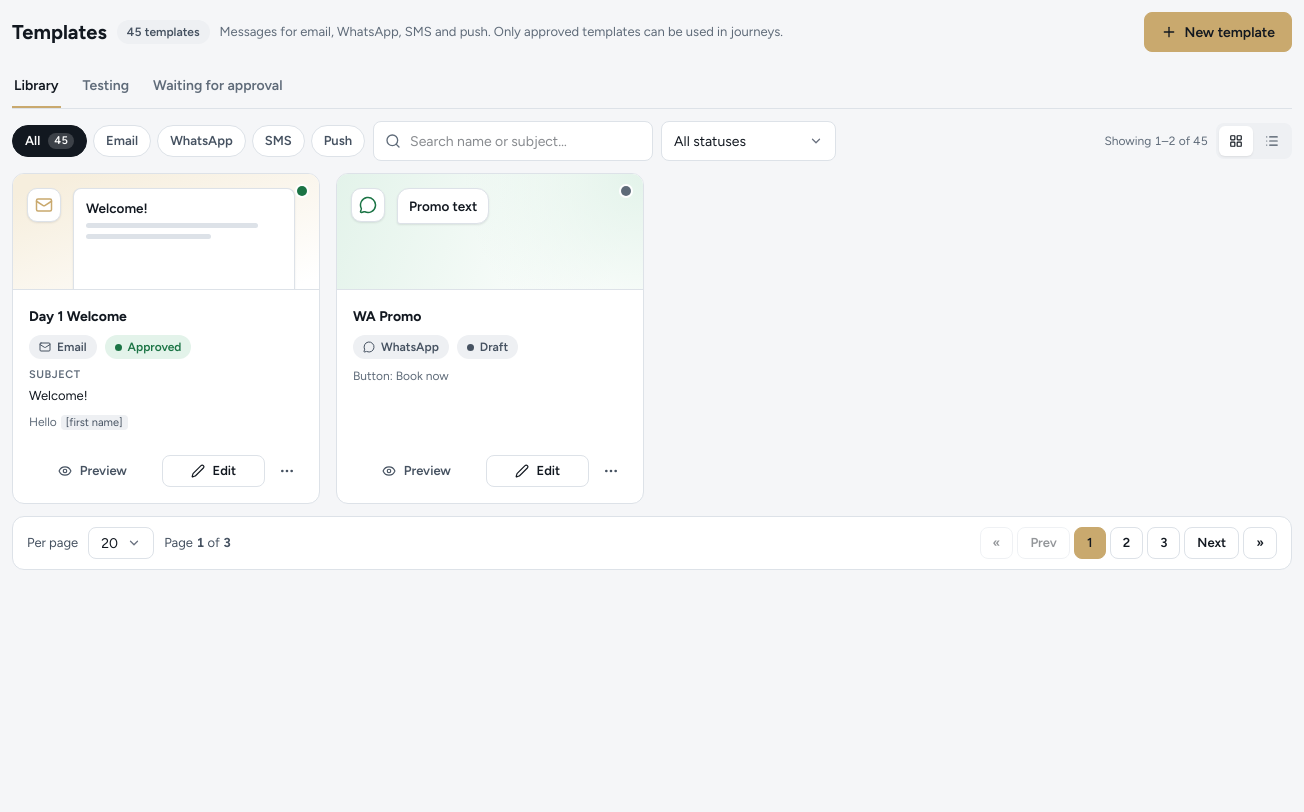
Test: Templates page — library › each card has exactly Preview, Edit and ⋯; Test send lives in the ⋯ menu
Expected: the heading "Day 1 Welcome" is shown, [29,308,127,325]
Expected: the text "Test send" is not shown
Click the button named "More actions for Day 1 Welcome" at (287, 471), box [271,455,303,487]
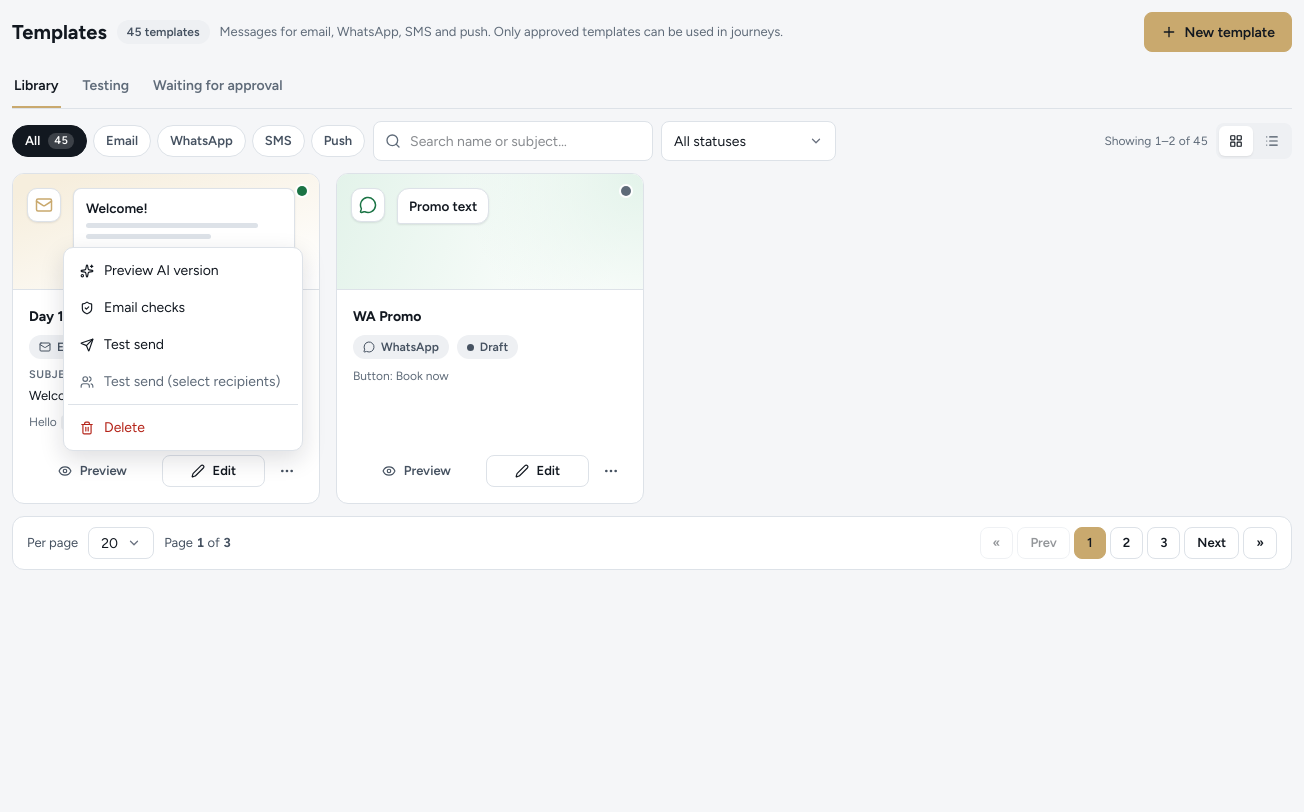
Now the menu items read "Preview AI version", "Email checks", "Test send", "Test send (select recipients)", "Delete", in this order, box [68,252,298,289]; [68,289,298,326]; [68,326,298,363]; [68,363,298,400]; [68,409,298,446]
Now the menu item "Test send (select recipients)" is disabled, box [68,363,298,400]
Press Escape
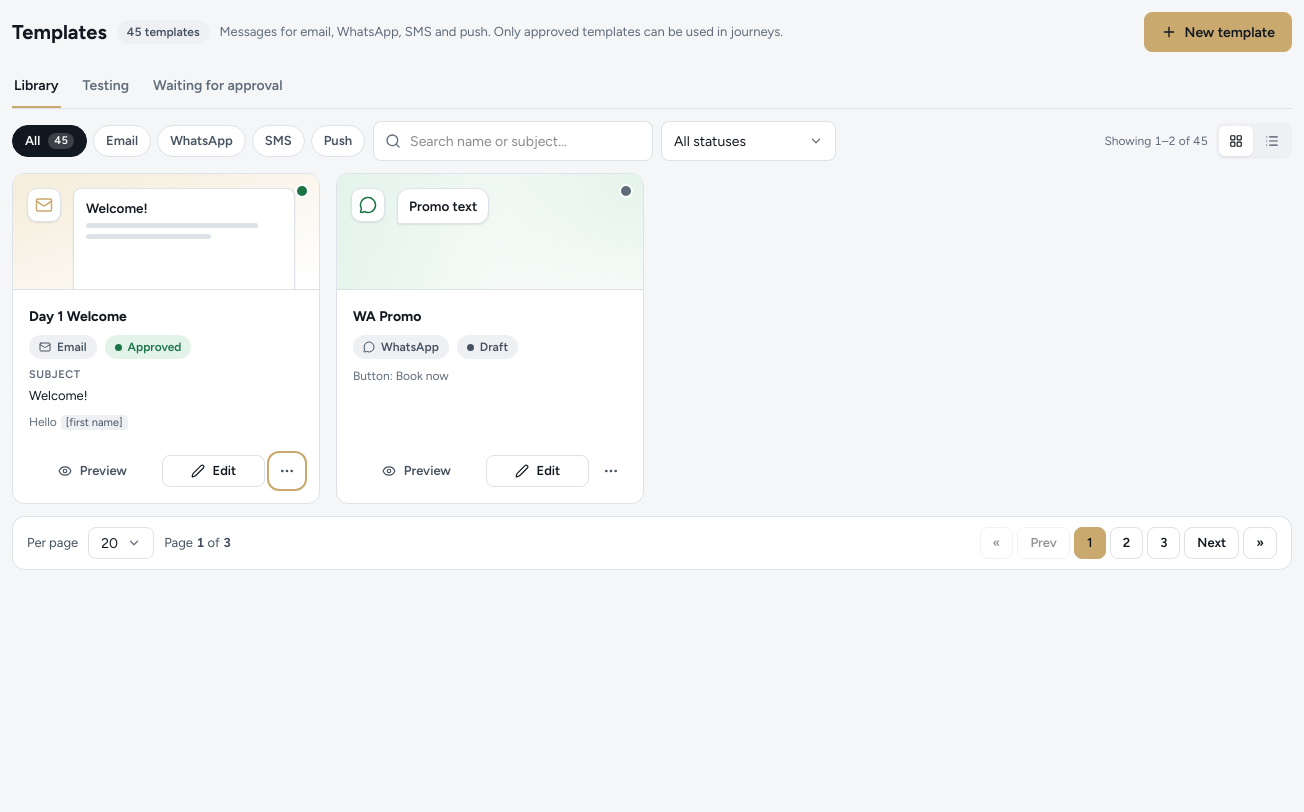
Now the menu is gone
Click the button named "More actions for WA Promo" at (611, 471), box [595,455,627,487]
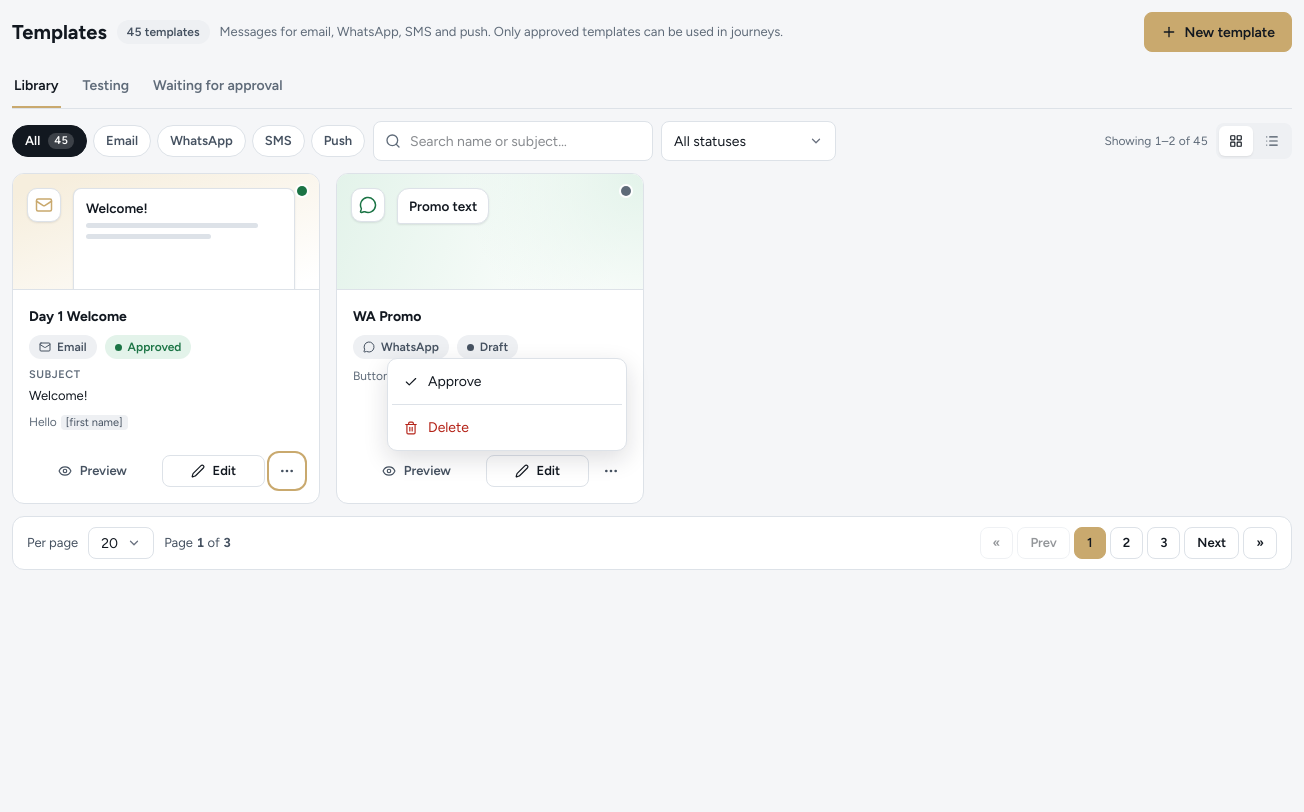
Now the menu items read "Approve", "Delete", in this order, box [392,363,622,400]; [392,409,622,446]
